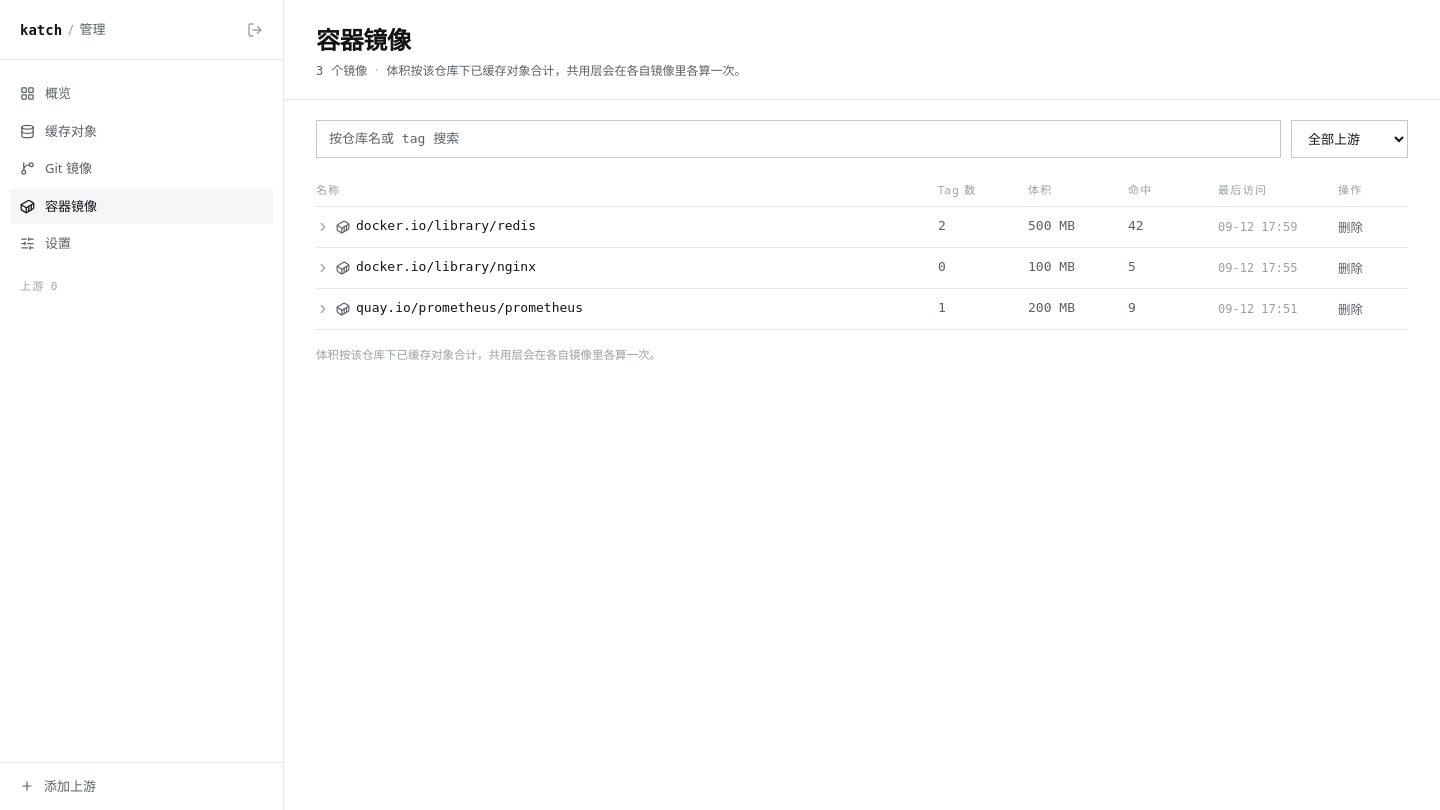
Scenario: 后台 · 容器镜像 › 删除单个 tag 要求确认并带上 reference，不影响其它 tag
The image size is (1440, 810).
Check: the table named "容器镜像" is shown, box [316,174,1408,330]
Step 1. Click the button named "展开" → click(323, 227), box [316,220,330,234]
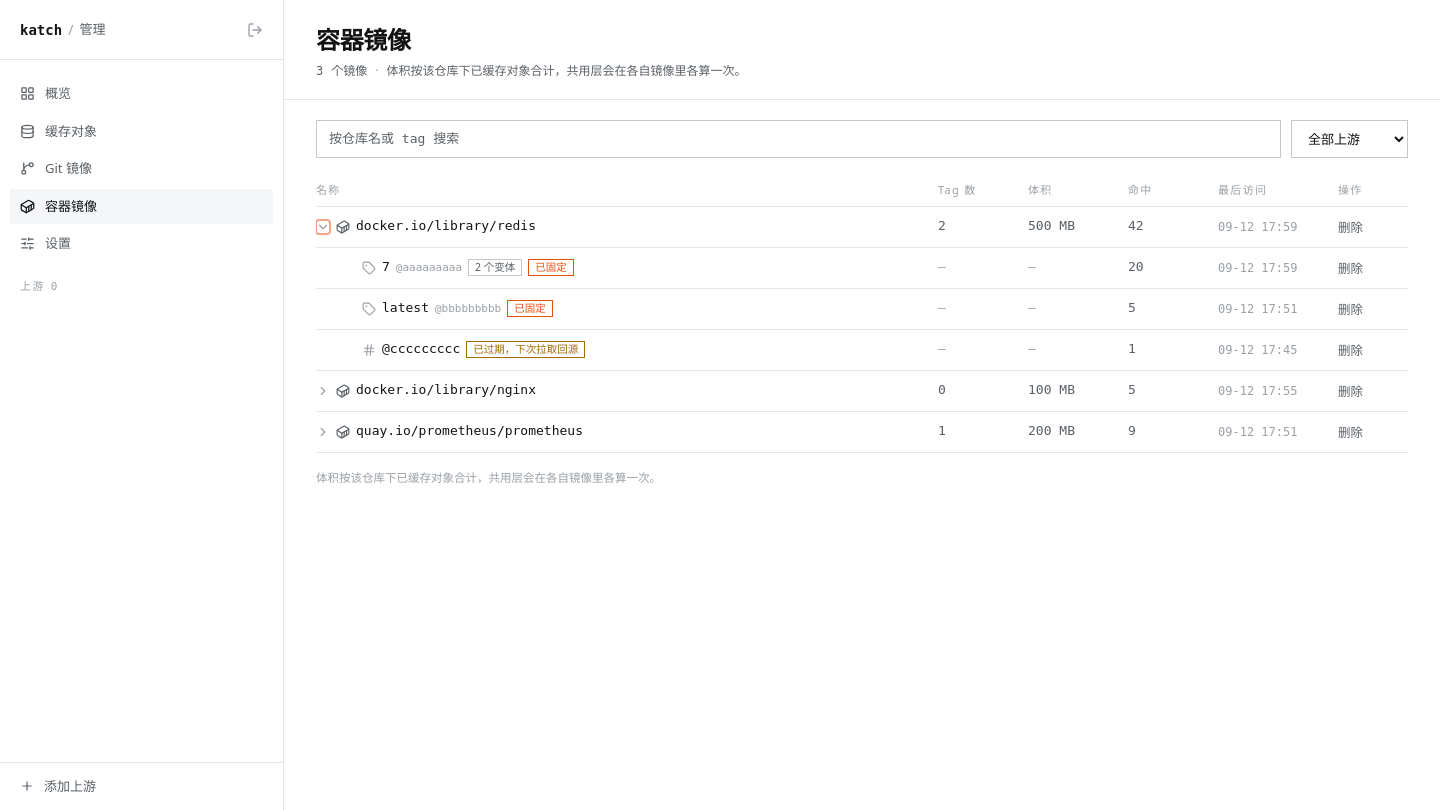
Step 2. Click the button "删除" in the row of "@aaaaaaaaa" → click(1350, 269), box [1338,260,1363,278]
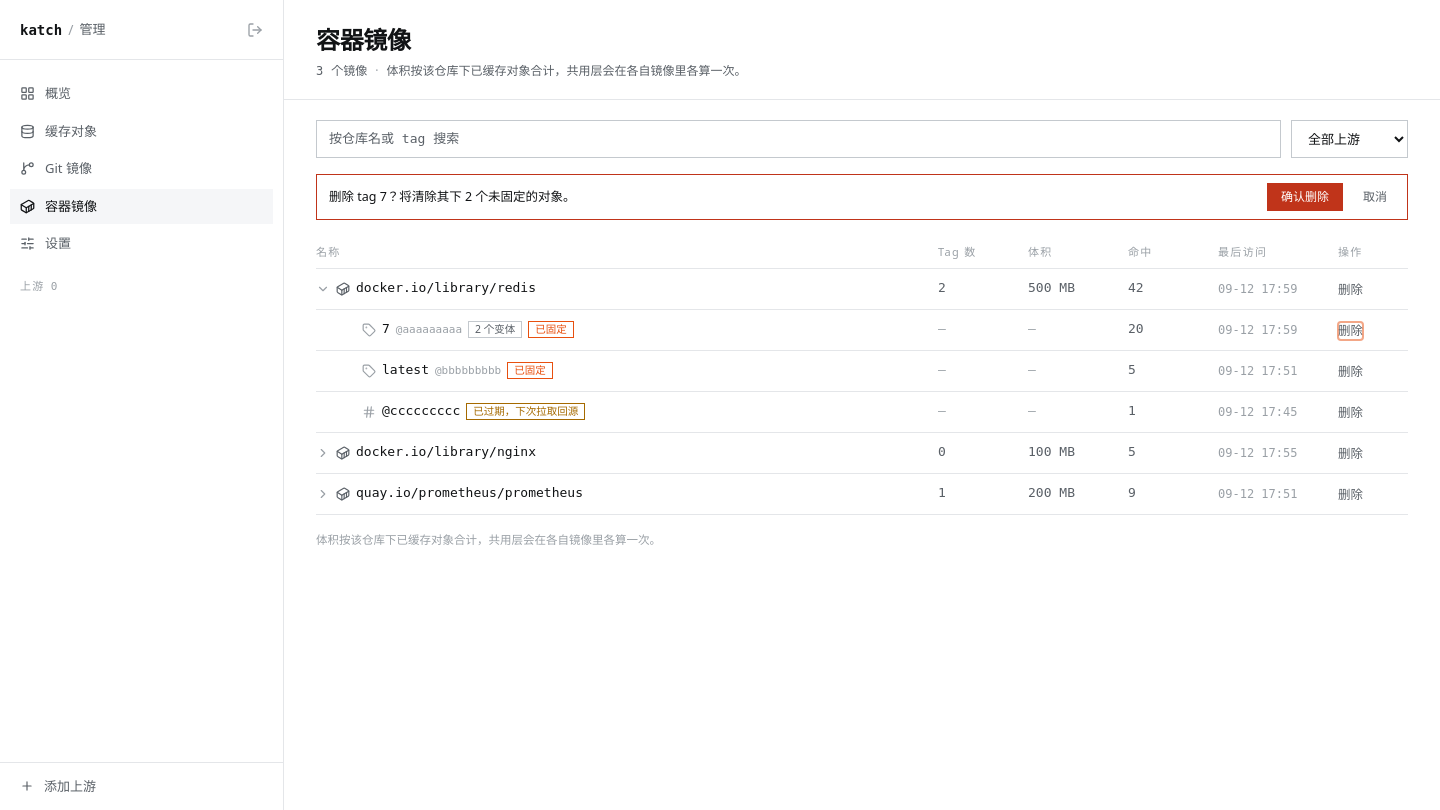
Check: the dialog shows "删除 tag 7？将清除其下 2 个未固定的对象。", box [329,188,576,205]
Step 3. Click the button "确认删除" → click(1305, 197), box [1267,183,1343,211]
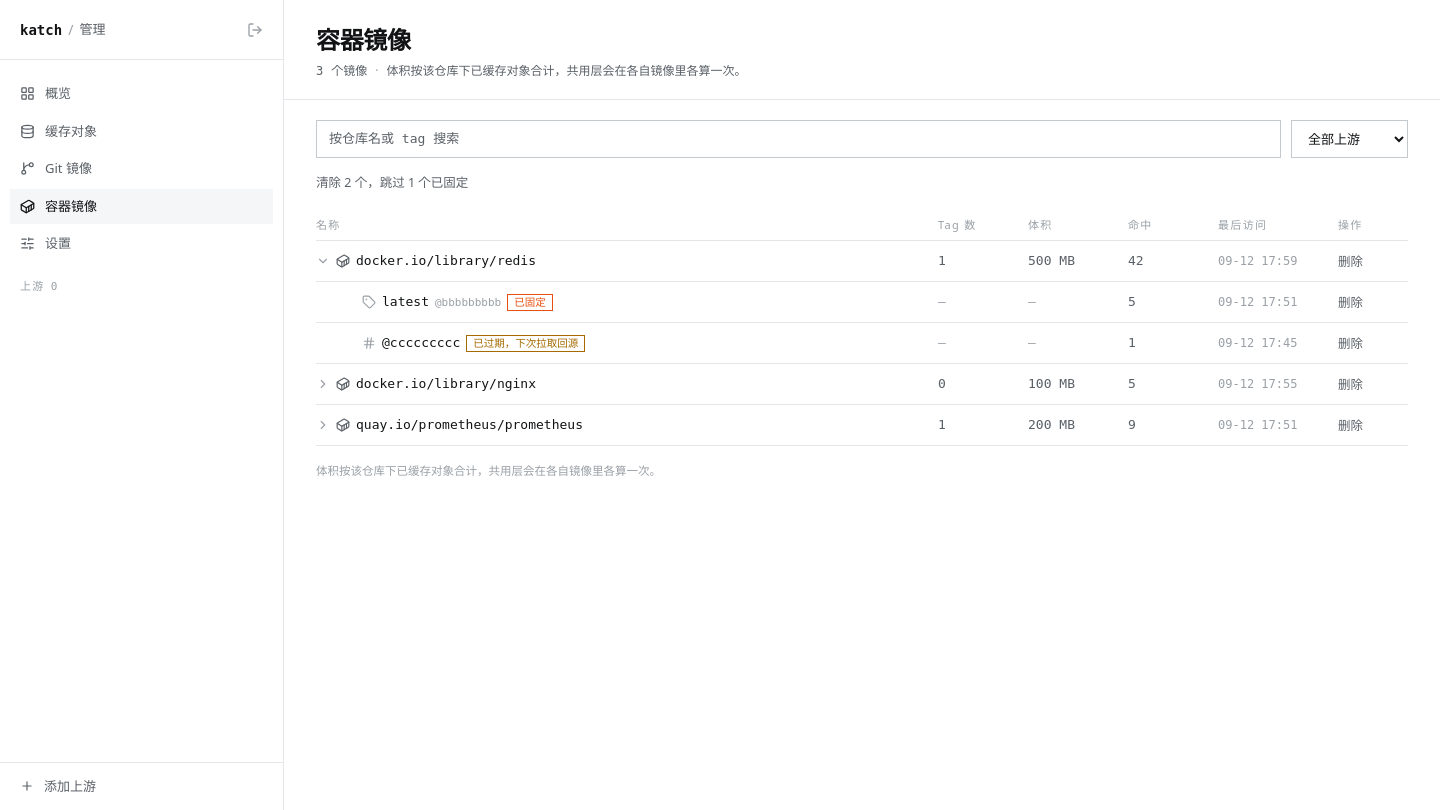
Check: the row "latest @bbbbbbbbb 已固定 — — 5 09-12 17:51 删除" is shown, box [316,282,1408,323]
Check: the message reads "清除 2 个，跳过 1 个已固定", box [316,174,468,191]
